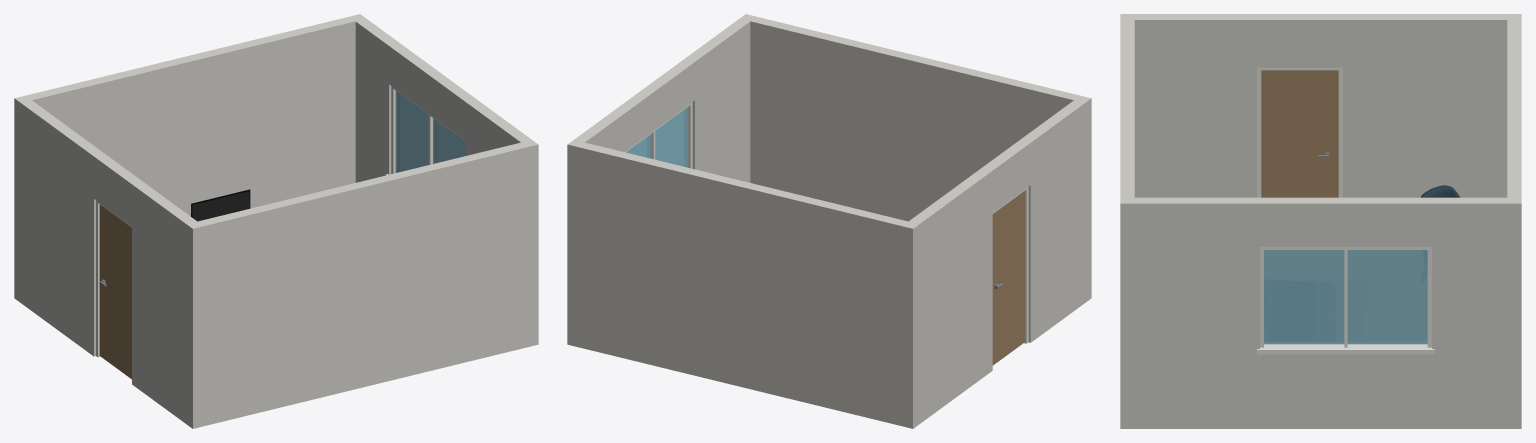
Rendered from layoutgpt.glb.
The picture shows the model from 3 angles, left to right: view 1: azimuth 30°, elevation 25°; view 2: azimuth 150°, elevation 25°; view 3: azimuth 270°, elevation 25°; orthographic projection. The views are drawn at different scales.
Parts seen in each view (by area): view 1: wall|scenesmith_047__R00|0, wall|scenesmith_047__R00|1, wall|scenesmith_047__R00|2, wall|scenesmith_047__R00|3, wall|scenesmith_047__R00|2 Door 0 | wood leaf, wall|scenesmith_047__R00|3 Window 0 | glazing, scenesmith_047__R00_5, wall|scenesmith_047__R00|3 Window 0 | jamb, wall|scenesmith_047__R00|2 Door 0 | jamb; view 2: wall|scenesmith_047__R00|1, wall|scenesmith_047__R00|0, wall|scenesmith_047__R00|2, wall|scenesmith_047__R00|3, wall|scenesmith_047__R00|2 Door 0 | wood leaf, wall|scenesmith_047__R00|3 Window 0 | glazing, wall|scenesmith_047__R00|2 Door 0 | jamb, wall|scenesmith_047__R00|3 Window 0 | jamb; view 3: wall|scenesmith_047__R00|3, wall|scenesmith_047__R00|2, wall|scenesmith_047__R00|3 Window 0 | glazing, wall|scenesmith_047__R00|2 Door 0 | wood leaf, wall|scenesmith_047__R00|1, wall|scenesmith_047__R00|0, wall|scenesmith_047__R00|3 Window 0 | jamb, wall|scenesmith_047__R00|2 Door 0 | jamb.
Part boxes in pixels (bbox=[...]): wall|scenesmith_047__R00|0: bbox=[187, 140, 538, 428]; wall|scenesmith_047__R00|1: bbox=[15, 14, 365, 216]; wall|scenesmith_047__R00|2: bbox=[14, 98, 203, 428]; wall|scenesmith_047__R00|3: bbox=[353, 16, 534, 182]; wall|scenesmith_047__R00|2 Door 0 | wood leaf: bbox=[99, 204, 131, 379]; wall|scenesmith_047__R00|3 Window 0 | glazing: bbox=[395, 91, 465, 172]; scenesmith_047__R00_5: bbox=[191, 189, 250, 221]; wall|scenesmith_047__R00|3 Window 0 | jamb: bbox=[385, 86, 465, 175]; wall|scenesmith_047__R00|2 Door 0 | jamb: bbox=[96, 200, 131, 357]; wall|scenesmith_047__R00|1: bbox=[567, 140, 918, 428]; wall|scenesmith_047__R00|0: bbox=[740, 14, 1090, 221]; wall|scenesmith_047__R00|2: bbox=[902, 98, 1091, 428]; wall|scenesmith_047__R00|3: bbox=[571, 14, 755, 182]; wall|scenesmith_047__R00|2 Door 0 | wood leaf: bbox=[992, 191, 1024, 365]; wall|scenesmith_047__R00|3 Window 0 | glazing: bbox=[626, 107, 687, 167]; wall|scenesmith_047__R00|2 Door 0 | jamb: bbox=[992, 187, 1028, 343]; wall|scenesmith_047__R00|3 Window 0 | jamb: bbox=[624, 102, 692, 168]; wall|scenesmith_047__R00|3: bbox=[1120, 197, 1520, 428]; wall|scenesmith_047__R00|2: bbox=[1134, 14, 1507, 197]; wall|scenesmith_047__R00|3 Window 0 | glazing: bbox=[1264, 250, 1427, 344]; wall|scenesmith_047__R00|2 Door 0 | wood leaf: bbox=[1261, 70, 1338, 197]; wall|scenesmith_047__R00|1: bbox=[1507, 14, 1521, 428]; wall|scenesmith_047__R00|0: bbox=[1120, 14, 1134, 428]; wall|scenesmith_047__R00|3 Window 0 | jamb: bbox=[1257, 247, 1434, 354]; wall|scenesmith_047__R00|2 Door 0 | jamb: bbox=[1257, 67, 1342, 197].
Size of the model in its own units: 4.73 by 2.61 by 4.2.
12 materials, 5 textured.
